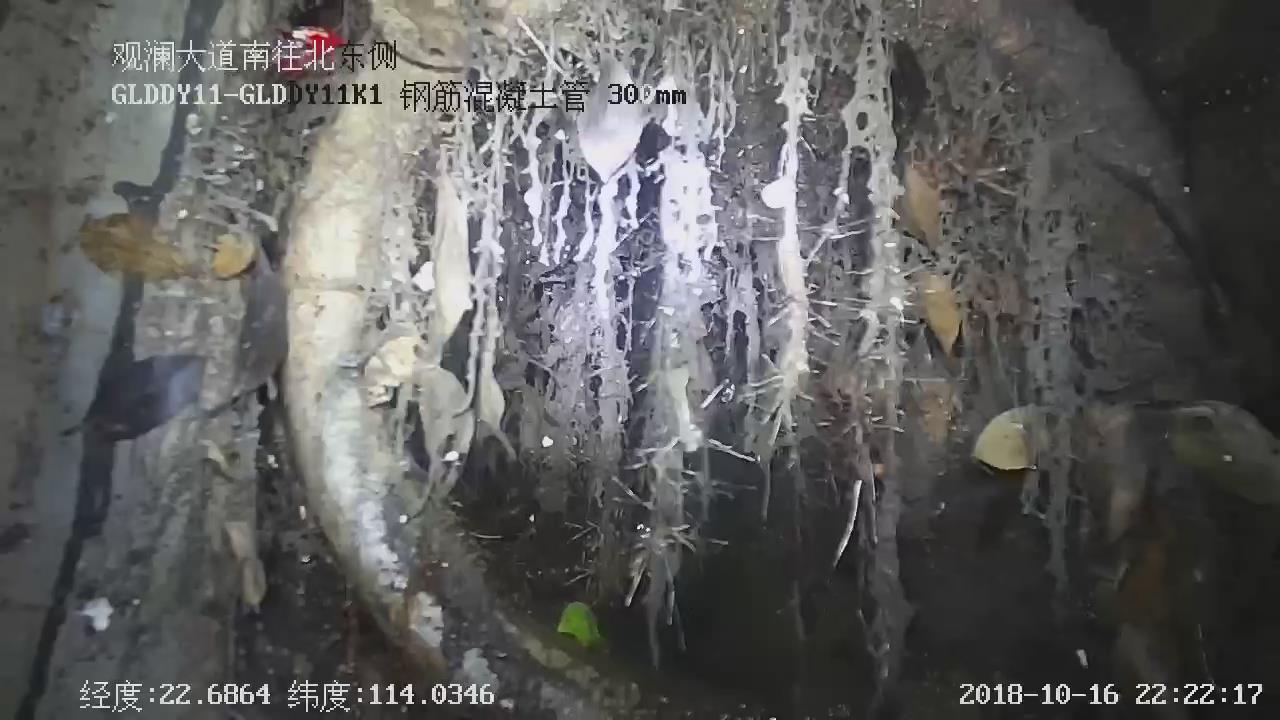SG: (336, 0, 1279, 711)
